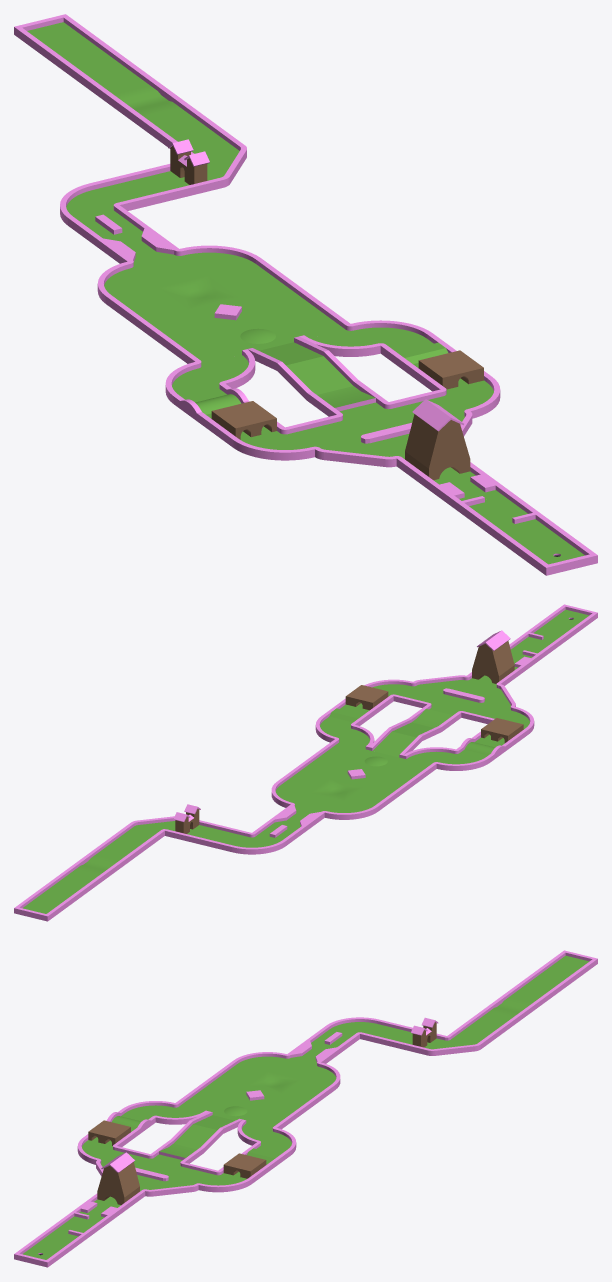
File: level.glb
The picture shows the model from 3 angles, top to bottom: view 1: azimuth 30°, elevation 25°; view 2: azimuth 150°, elevation 25°; view 3: azimuth 330°, elevation 25°; orthographic projection. The views are drawn at different scales.
Visible parts, largest first — view 1: level; view 2: level; view 3: level.
Part boxes in pixels (<box>): level: <box>14,14,597,575</box>; level: <box>14,604,597,921</box>; level: <box>14,950,597,1267</box>.
Bounding box in the file's own units: 60 × 11.66 × 230.
